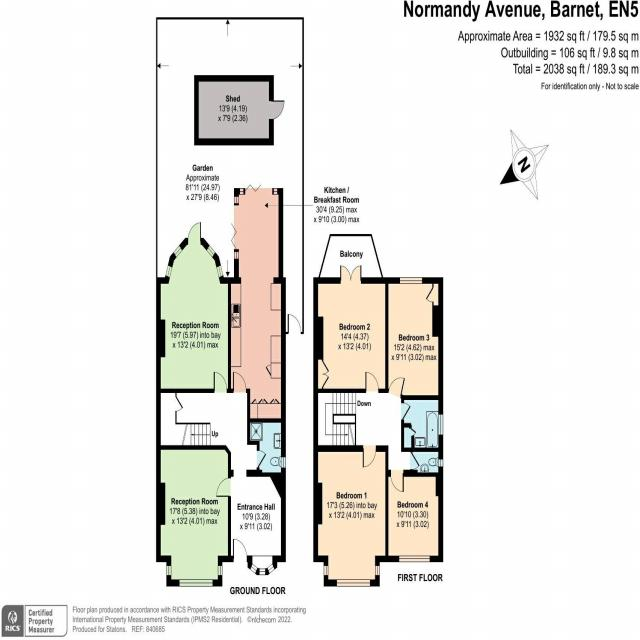DOOR: (388, 377, 406, 399), (232, 537, 247, 562), (390, 469, 404, 493), (362, 445, 376, 468), (213, 371, 227, 393), (233, 371, 247, 393), (216, 477, 231, 497), (188, 222, 201, 245), (365, 372, 379, 393), (410, 451, 420, 471), (257, 450, 267, 469), (401, 402, 411, 420)
FOLDING DOOR: (229, 204, 240, 251), (244, 182, 274, 195)
ROOM: (228, 183, 286, 423), (156, 222, 231, 393), (313, 445, 388, 587), (156, 445, 231, 587), (313, 265, 388, 393), (385, 277, 443, 400), (385, 470, 443, 562)
WINDOW: (336, 579, 370, 587), (179, 579, 213, 587), (399, 555, 430, 563), (399, 277, 423, 284), (206, 244, 216, 258), (173, 245, 183, 258), (165, 265, 173, 279), (216, 264, 224, 278), (438, 414, 443, 435), (250, 563, 258, 574), (267, 563, 275, 574), (375, 565, 380, 576), (324, 565, 329, 576), (281, 457, 286, 468), (166, 565, 171, 576), (218, 565, 223, 576), (259, 568, 266, 575), (438, 459, 443, 467), (234, 196, 239, 204), (240, 188, 244, 195), (273, 188, 277, 195)
